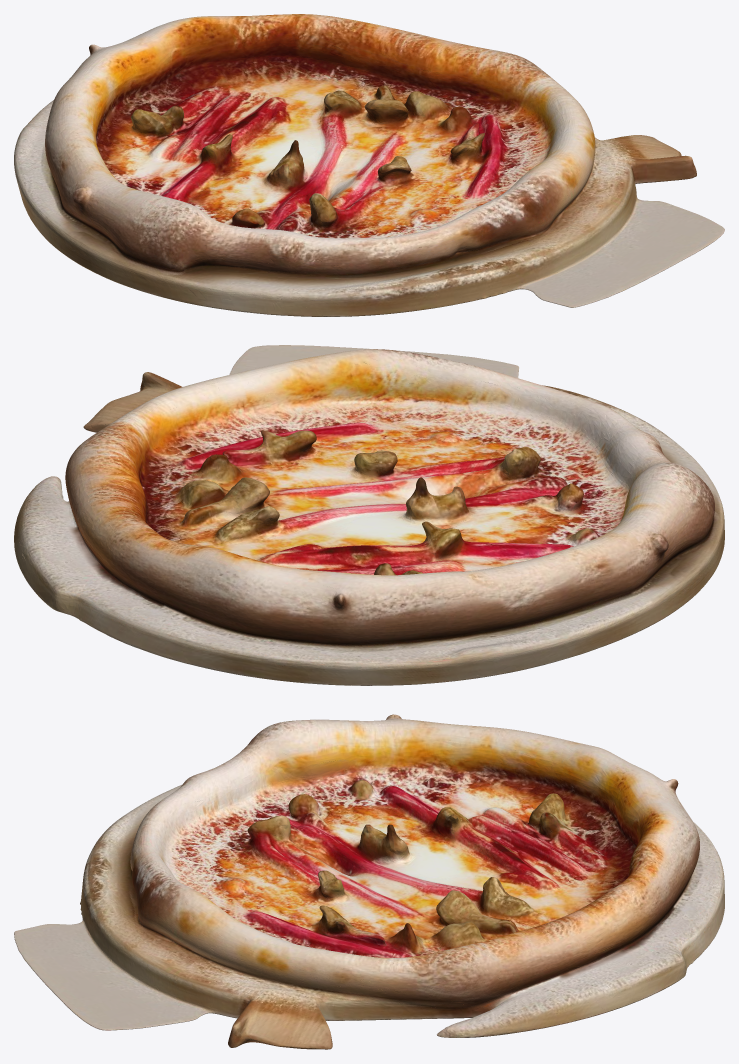
File: pizzamodel_usdz_ready.glb
3 views of the same model, one above another, from view 1: azimuth 30°, elevation 25°; view 2: azimuth 150°, elevation 25°; view 3: azimuth 270°, elevation 25° (orthographic). The views are drawn at different scales.
Visible parts, largest first — view 1: material; view 2: material; view 3: material.
Boxes of the visible parts, bbox=[...] form: material: bbox=[14, 14, 724, 316]; material: bbox=[14, 345, 724, 685]; material: bbox=[14, 714, 724, 1049].
Size of the model in its own units: 0.1889 by 0.0244 by 0.2.
Materials: 1 (1 with a texture image).
